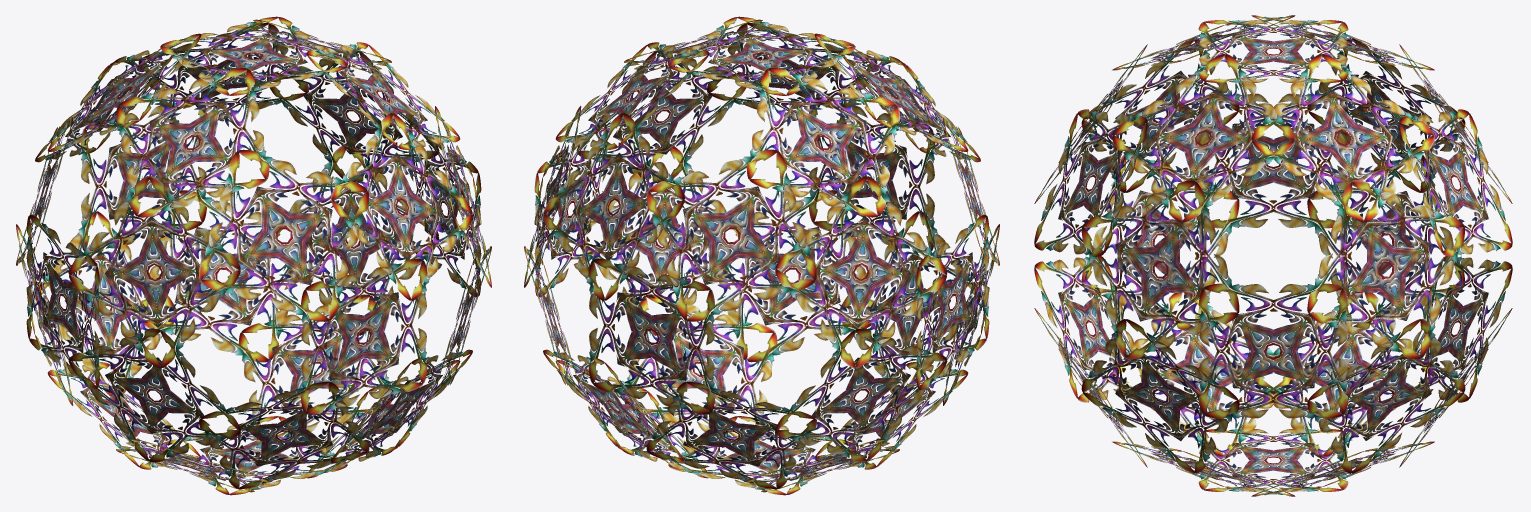
Rendered from TruncatedDodecadodecahedron9.gltf.
3 views of the same model, side by side, from view 1: azimuth 30°, elevation 25°; view 2: azimuth 150°, elevation 25°; view 3: azimuth 270°, elevation 25° (orthographic). The views are drawn at different scales.
Parts seen in each view (by area): view 1: 1TruncatedDodecadodecahedron; view 2: 1TruncatedDodecadodecahedron; view 3: 1TruncatedDodecadodecahedron.
Boxes of the visible parts, left/top/right/bottom form: 1TruncatedDodecadodecahedron: left=16, top=16, right=491, bottom=495; 1TruncatedDodecadodecahedron: left=524, top=16, right=999, bottom=495; 1TruncatedDodecadodecahedron: left=1034, top=15, right=1512, bottom=496.
Bounding box in the file's own units: 3.24 × 3.24 × 3.24.
1 material, 1 textured.
